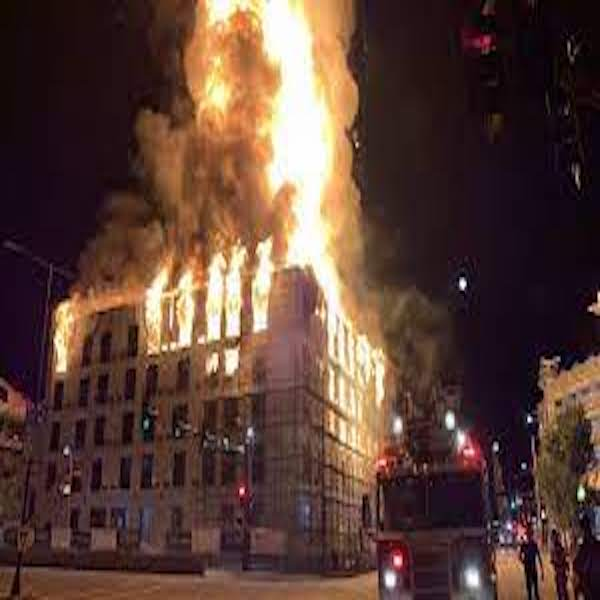fire: (195, 1, 361, 268), (322, 277, 388, 391), (228, 251, 269, 336), (141, 275, 166, 354), (207, 254, 225, 339), (50, 303, 71, 374), (177, 269, 194, 342)
